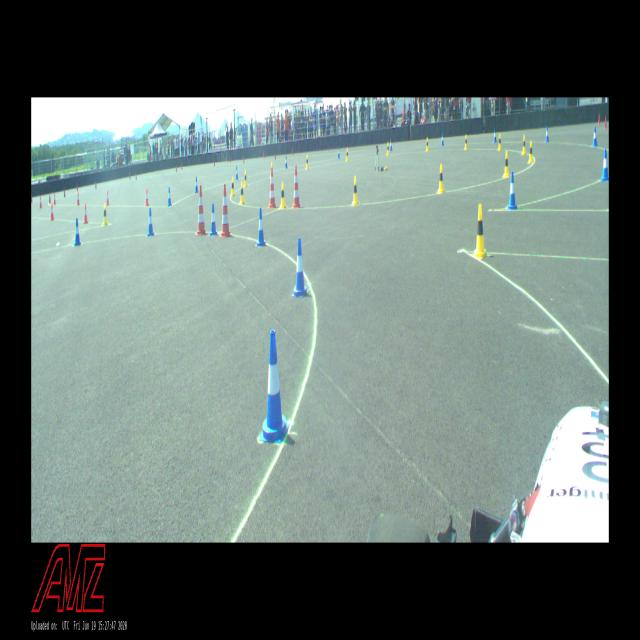blue_cone: (259, 330, 290, 443), (291, 237, 309, 298), (256, 208, 267, 246), (507, 172, 518, 210), (601, 149, 609, 181), (147, 208, 155, 237), (210, 203, 217, 235), (74, 218, 81, 246), (592, 126, 598, 146), (167, 187, 172, 207), (546, 126, 550, 142), (195, 176, 199, 192), (493, 129, 497, 143), (235, 166, 239, 180), (441, 133, 444, 147), (285, 155, 288, 168), (390, 139, 392, 151), (338, 146, 340, 158)
large_orange_cone: (219, 184, 233, 238), (195, 185, 208, 236), (291, 166, 302, 208), (268, 167, 277, 209)
orange_cone: (83, 203, 89, 224), (50, 203, 55, 221), (145, 188, 149, 206), (106, 191, 110, 205), (77, 192, 80, 206), (39, 196, 42, 208), (54, 193, 56, 204)
unknown_cone: (604, 116, 606, 130), (598, 114, 600, 125), (49, 194, 51, 203), (31, 194, 33, 202)
yellow_cone: (473, 204, 487, 261), (352, 176, 358, 206), (438, 163, 444, 192), (280, 181, 286, 208), (102, 203, 109, 226), (240, 181, 246, 205), (528, 140, 534, 163), (504, 150, 509, 177), (230, 177, 236, 197), (243, 170, 248, 187), (522, 135, 526, 154), (498, 134, 502, 151), (305, 154, 309, 169), (464, 134, 467, 150), (426, 137, 429, 152), (386, 142, 389, 156), (346, 148, 349, 162)
